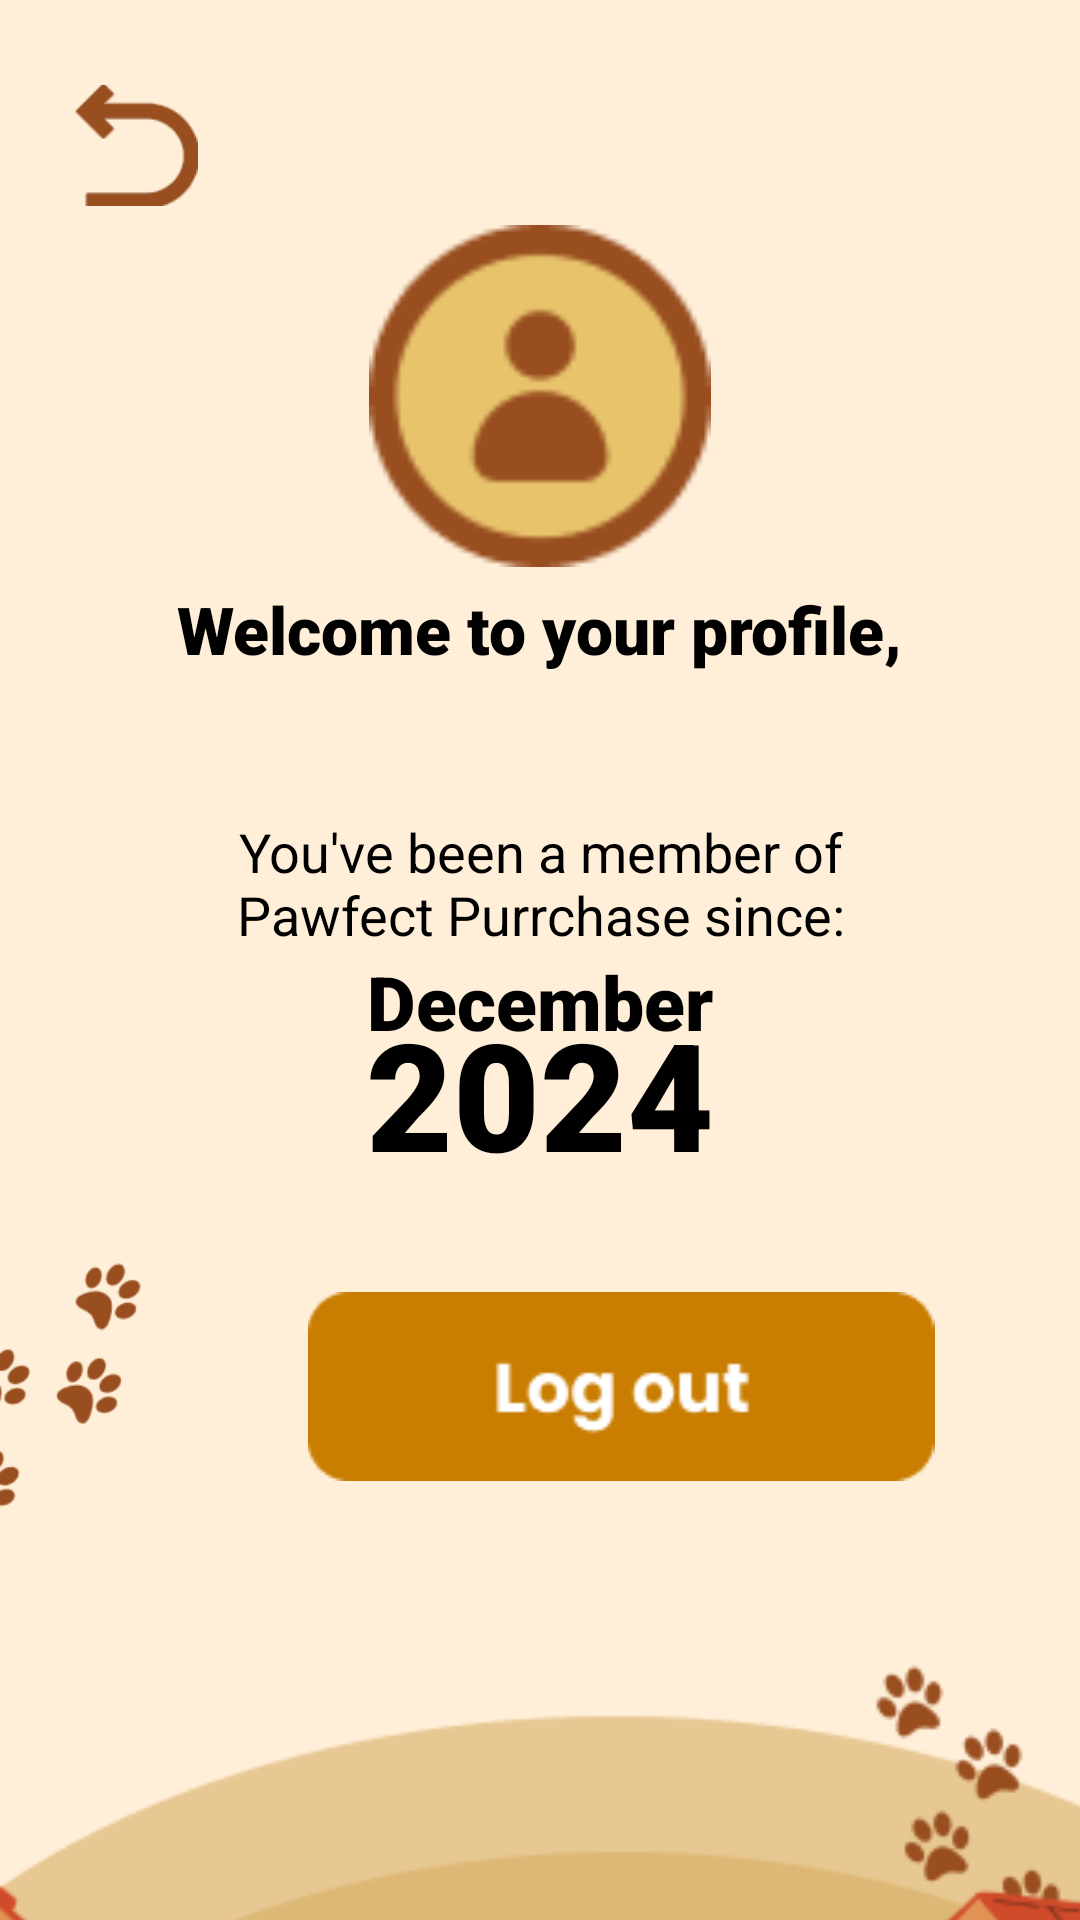

Where to tap for icons on this 1080px×1920px app screen, as point (x, y):
back: point (136, 145)
